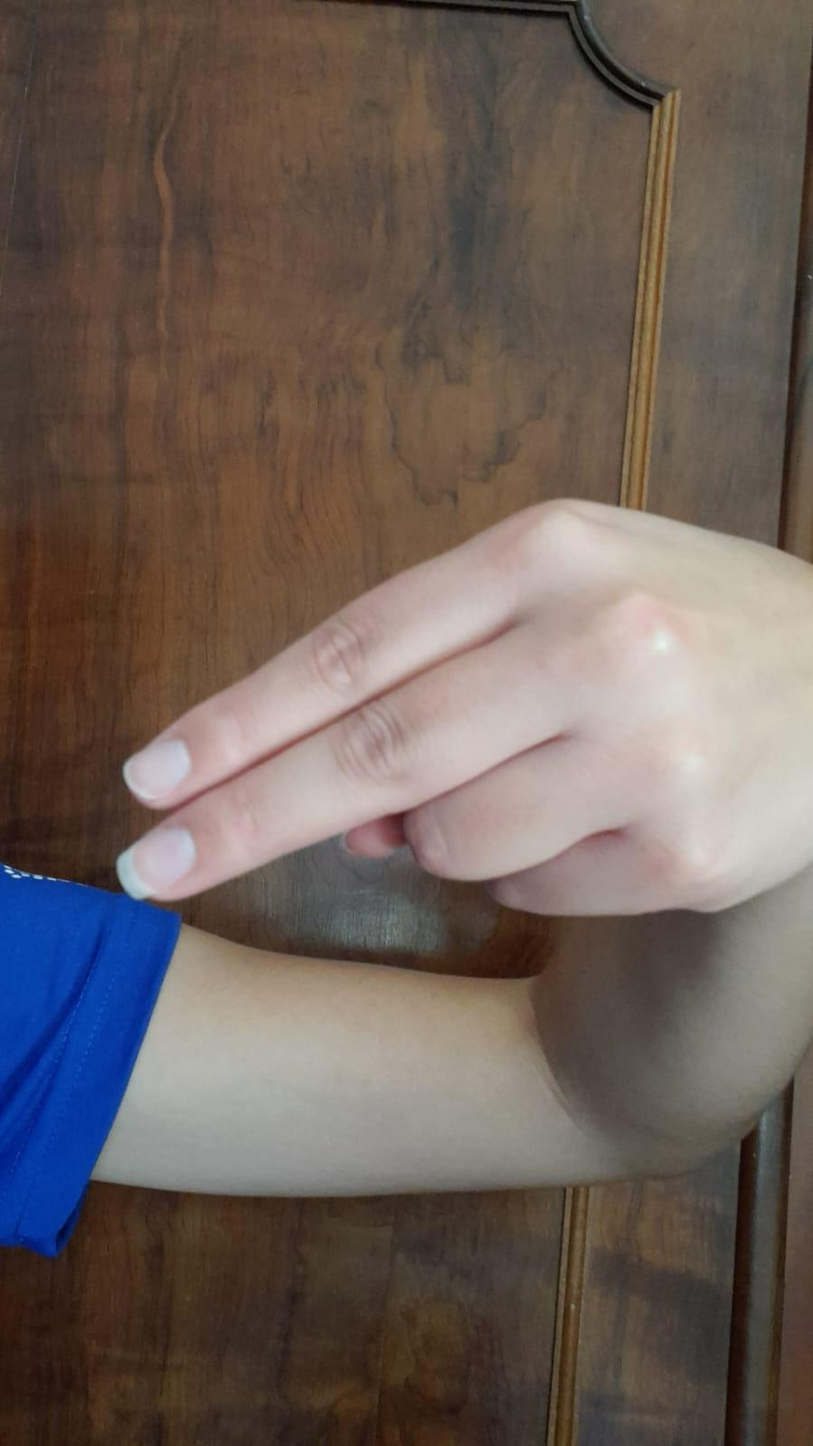N: (95, 416, 813, 1035)
